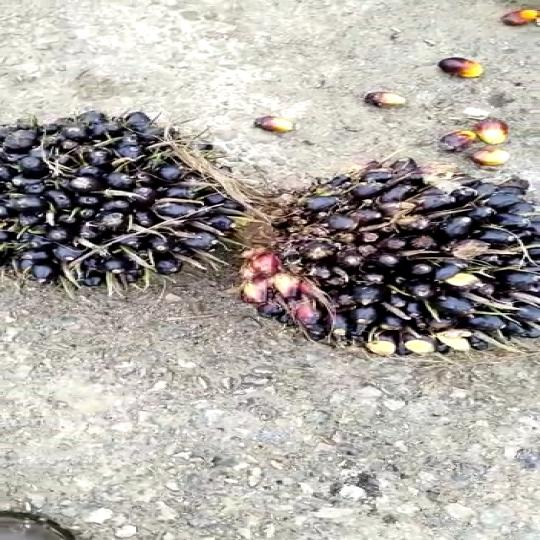mentah: (257, 158, 540, 367), (17, 117, 260, 299)
